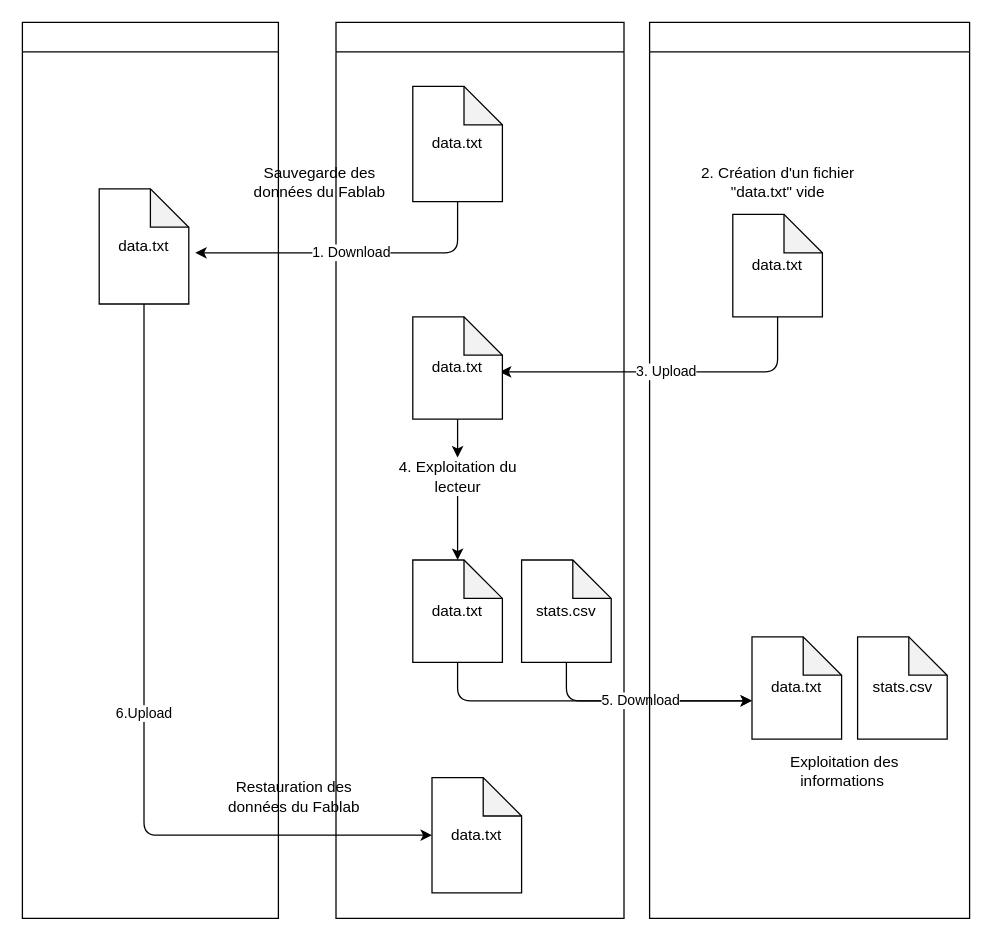
Image size: 992x941. Some labels were removed from this diagram. Here are the shapes that lost their labels. From the top down, the box of each, then its label:
(21, 21, 278, 918): Répertoire Fablab
(335, 21, 624, 918): Badgeur
(648, 21, 970, 918): Répertoire "évenementiel"
